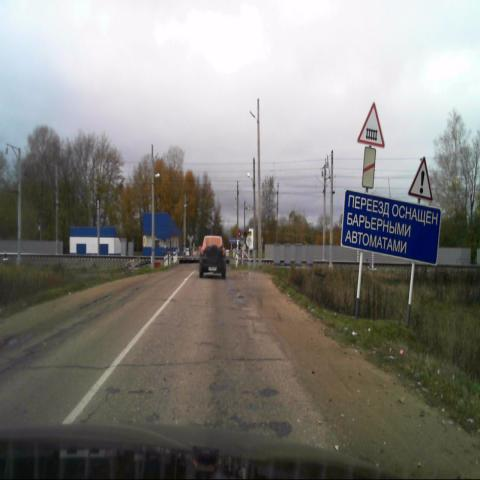1_1: (357, 101, 385, 148)
1_33: (408, 156, 433, 201)
